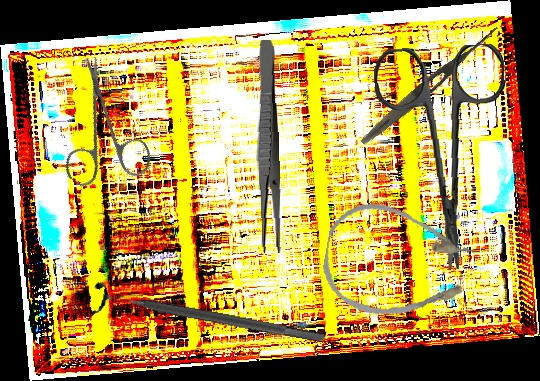Cannula: (316, 195, 483, 331)
Dressing Forceps: (357, 20, 502, 150), (252, 39, 283, 254)
Fixation Ring: (88, 279, 329, 357)
Iris Scissors: (372, 43, 515, 273), (23, 53, 183, 212)
